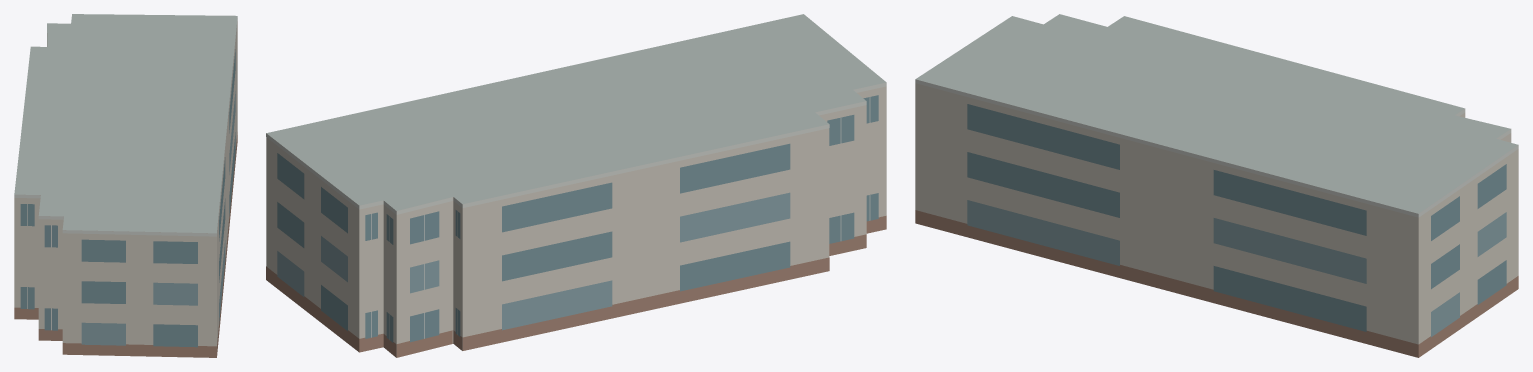
File: survey-upis-32839711.glb
3 views of the same model, side by side, from view 1: azimuth 30°, elevation 25°; view 2: azimuth 150°, elevation 25°; view 3: azimuth 270°, elevation 25° (orthographic). The views are drawn at different scales.
Parts seen in each view (by area): view 1: survey-upis-32839711.tmp; view 2: survey-upis-32839711.tmp; view 3: survey-upis-32839711.tmp.
Part boxes in pixels (x1,y1,x2,y2): survey-upis-32839711.tmp: (14, 14, 237, 357); survey-upis-32839711.tmp: (266, 14, 886, 357); survey-upis-32839711.tmp: (915, 14, 1518, 357).
Bounding box in the file's own units: 27.22 × 9.15 × 34.73.
